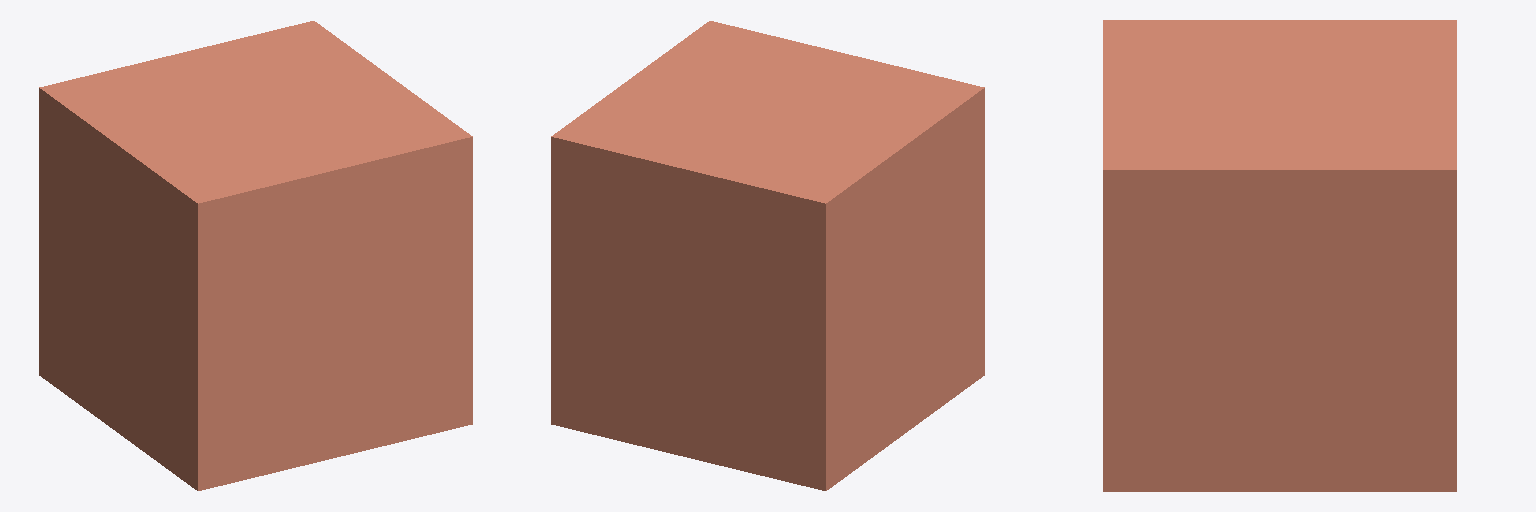
The robot description file, URDF, robot "box36_heavy33.urdf":
<?xml version="1.0" ?>
<robot name="box36_heavy33.urdf">
  <dynamics damping="0.5" friction="0.9"/>
  <link name="baseLink">
    <inertial>
      <!-- sim2sim mass-mismatch probe: 3.3 kg = mean of training DR (0.811 + U(1,4) kg).
           Real box is 811 g (objects_box36.urdf); solid-cube inertia I = m*a^2/6, a = 0.36 m -->
      <mass value="3.3"/>
      <origin xyz="0 0 0"/>
      <inertia ixx="0.07128" ixy="0" ixz="0" iyy="0.07128" iyz="0" izz="0.07128"/>
    </inertial>
    <contact>
      <lateral_friction value="0.9"/>
      <rolling_friction value="0.5"/>
      <stiffness value="30000"/>
      <damping value="1000"/>
    </contact>
    <visual>
      <origin rpy="0 0 0" xyz="0 0 0"/>
      <geometry>
        <mesh filename="box36.obj" scale="1.0 1.0 1.0"/>
      </geometry>
       <material name="mat">
        <color rgba="0.9 0.6 0.5 1"/>
      </material>
    </visual>
    <collision>
      <origin rpy="0 0 0" xyz="0 0 0"/>
      <geometry>
        <mesh filename="box36.obj" scale="1.0 1.0 1.0"/>
      </geometry>
    </collision>
  </link>
</robot>

--- What the picture shows (computed from the rendered views, not written in the file) ---
3 views of the same robot in one strip: view 1: azimuth 30°, elevation 25°; view 2: azimuth 150°, elevation 25°; view 3: azimuth 270°, elevation 25° (orthographic).
Robot: box36_heavy33.urdf — 1 links, 0 joints (none); root link baseLink; default pose: every joint at zero.
Visible links, largest first — view 1: baseLink; view 2: baseLink; view 3: baseLink.
Link boxes in pixels (x1,y1,x2,y2): baseLink: (39,21,472,490); baseLink: (551,21,984,490); baseLink: (1103,20,1456,491).
Bounding box of the posed robot: 0.36 × 0.36 × 0.36 m (x, y, z).
Meshes: 1 distinct files referenced, 1 mesh visuals loaded (1 OBJ).
